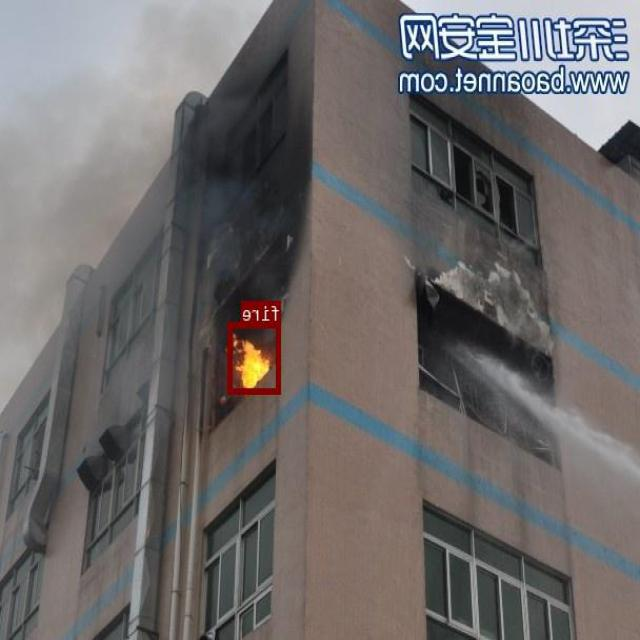fire: (229, 321, 282, 393)
